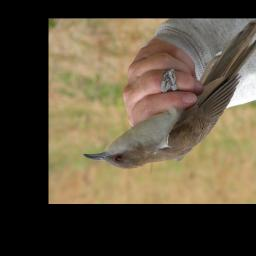Cuckoo: (83, 19, 256, 170)
